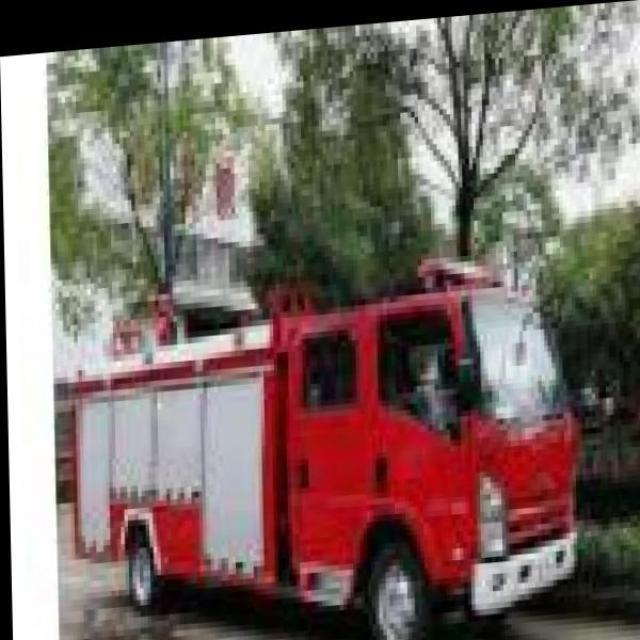emergency: (59, 252, 585, 636)
